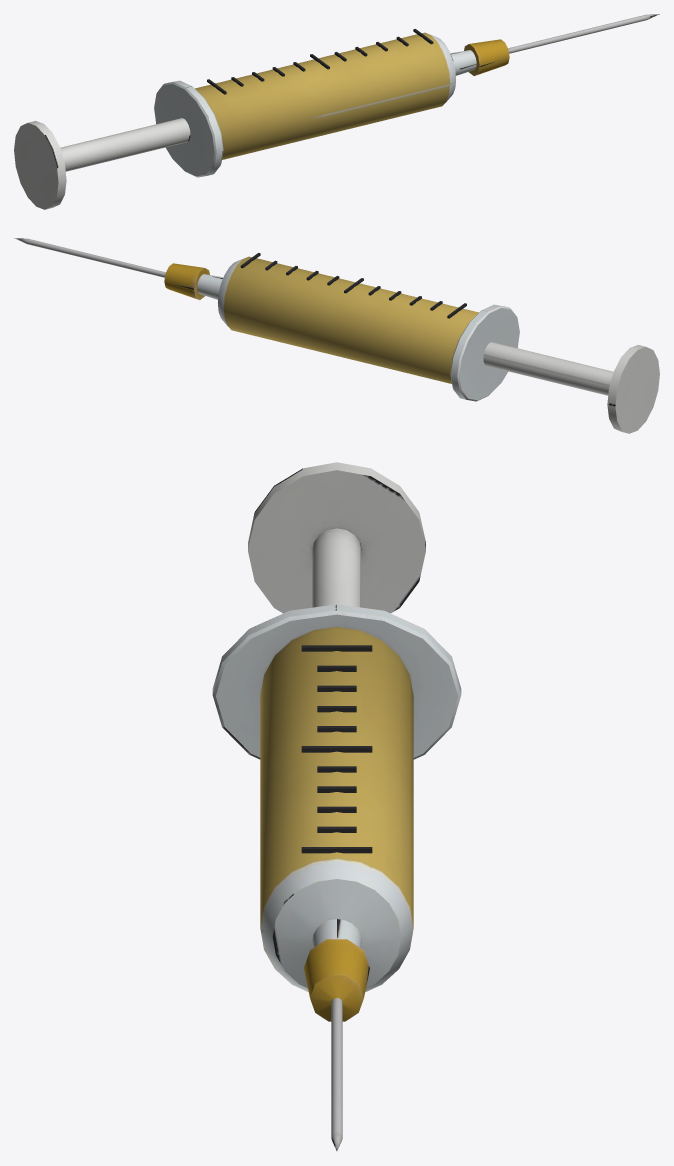
File: seringa.glb
3 views of the same model, one above another, from view 1: azimuth 30°, elevation 25°; view 2: azimuth 150°, elevation 25°; view 3: azimuth 270°, elevation 25° (orthographic). The views are drawn at different scales.
Parts seen in each view (by area): view 1: corpo, embolo, agulha, marcas; view 2: corpo, embolo, agulha, marcas; view 3: corpo, embolo, agulha, marcas.
Part boxes in pixels (left/top/right/bottom): corpo: left=154, top=32, right=476, bottom=177; embolo: left=14, top=118, right=190, bottom=209; agulha: left=464, top=14, right=659, bottom=75; marcas: left=207, top=29, right=433, bottom=94; corpo: left=197, top=256, right=519, bottom=401; embolo: left=483, top=342, right=659, bottom=433; agulha: left=14, top=238, right=209, bottom=299; marcas: left=240, top=253, right=466, bottom=318; corpo: left=212, top=604, right=461, bottom=991; embolo: left=248, top=462, right=425, bottom=613; agulha: left=304, top=939, right=369, bottom=1150; marcas: left=301, top=645, right=372, bottom=853.
Size of the model in its own units: 0.139 by 0.018 by 0.024.
Materials: 1 (1 with a texture image).
